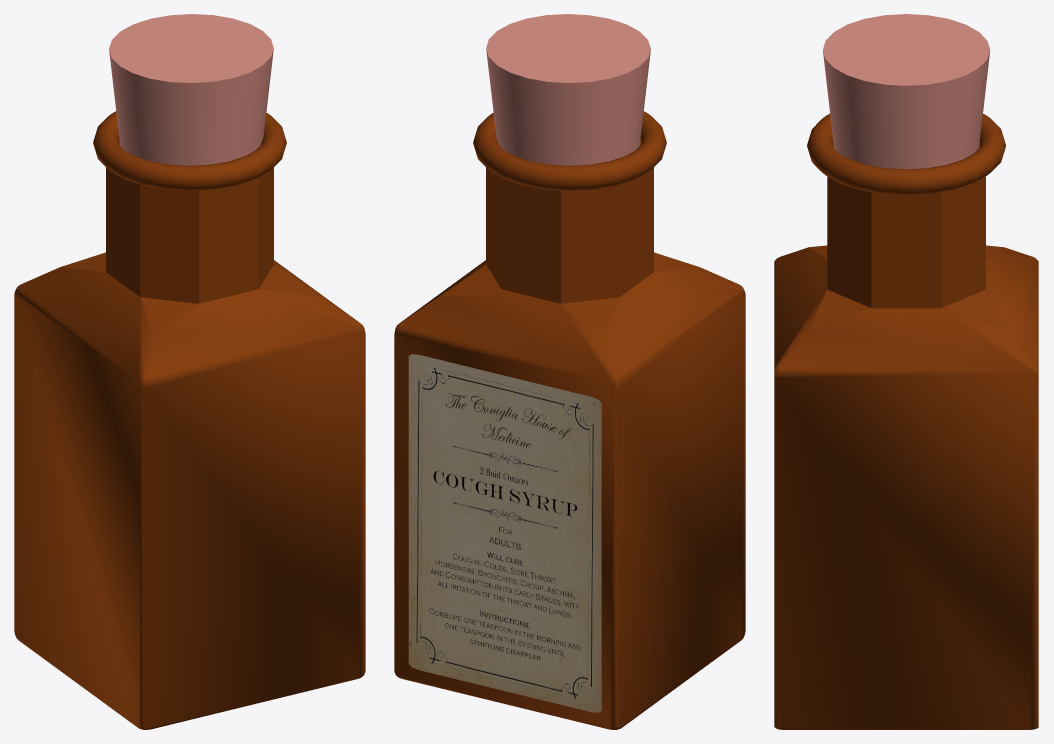
File: Cough Syrup.fbx
3 renders of one model, left to right at view 1: azimuth 30°, elevation 25°; view 2: azimuth 150°, elevation 25°; view 3: azimuth 270°, elevation 25°, orthographic. The views are drawn at different scales.
Visible parts, largest first — view 1: Box002, Cone001; view 2: Box002, Plane001ed, Cone001; view 3: Box002, Cone001.
Part boxes in pixels (<box>): Box002: <box>14,111,365,729</box>; Cone001: <box>109,14,273,165</box>; Box002: <box>394,111,745,729</box>; Plane001ed: <box>408,354,601,712</box>; Cone001: <box>486,14,650,165</box>; Box002: <box>774,113,1038,729</box>; Cone001: <box>823,14,990,169</box>.
Bounding box in the file's own units: 30 × 78.22 × 30.1.
